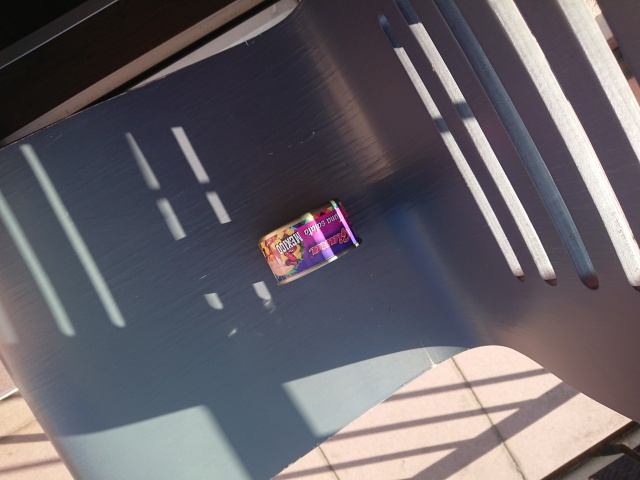Giana Tuna Salad Mexico 185g: (255, 194, 365, 290)
